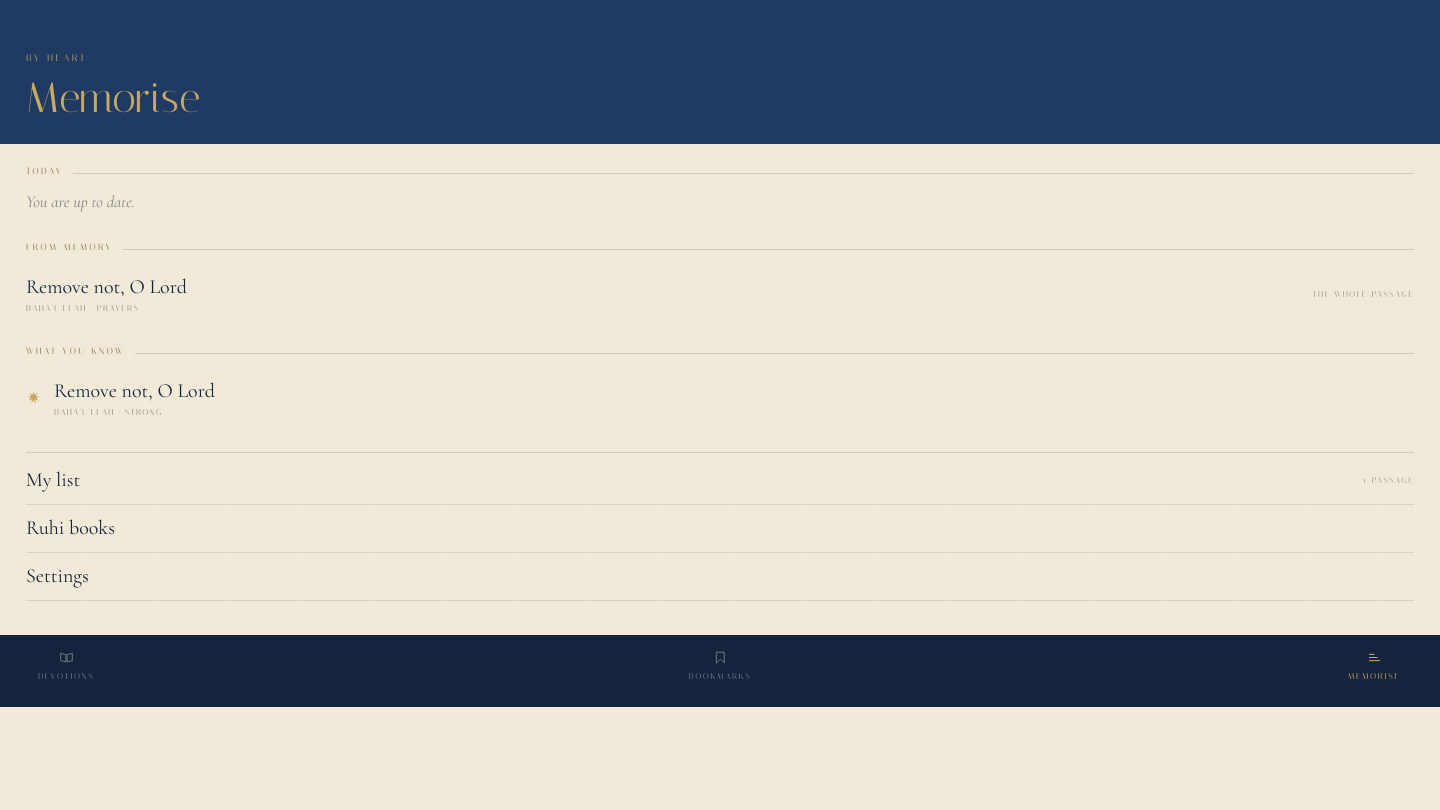
Scenario: the milestone screen › shows the opening words and hides everything else
expect the heading "Memorise" is shown: met, box [26,73,201,123]
Click the link "Remove not, O Lord BAHÁ'U'LLÁH · PRAYERS THE WHOLE PASSAGE": (106, 287) [26,264,1414,324]
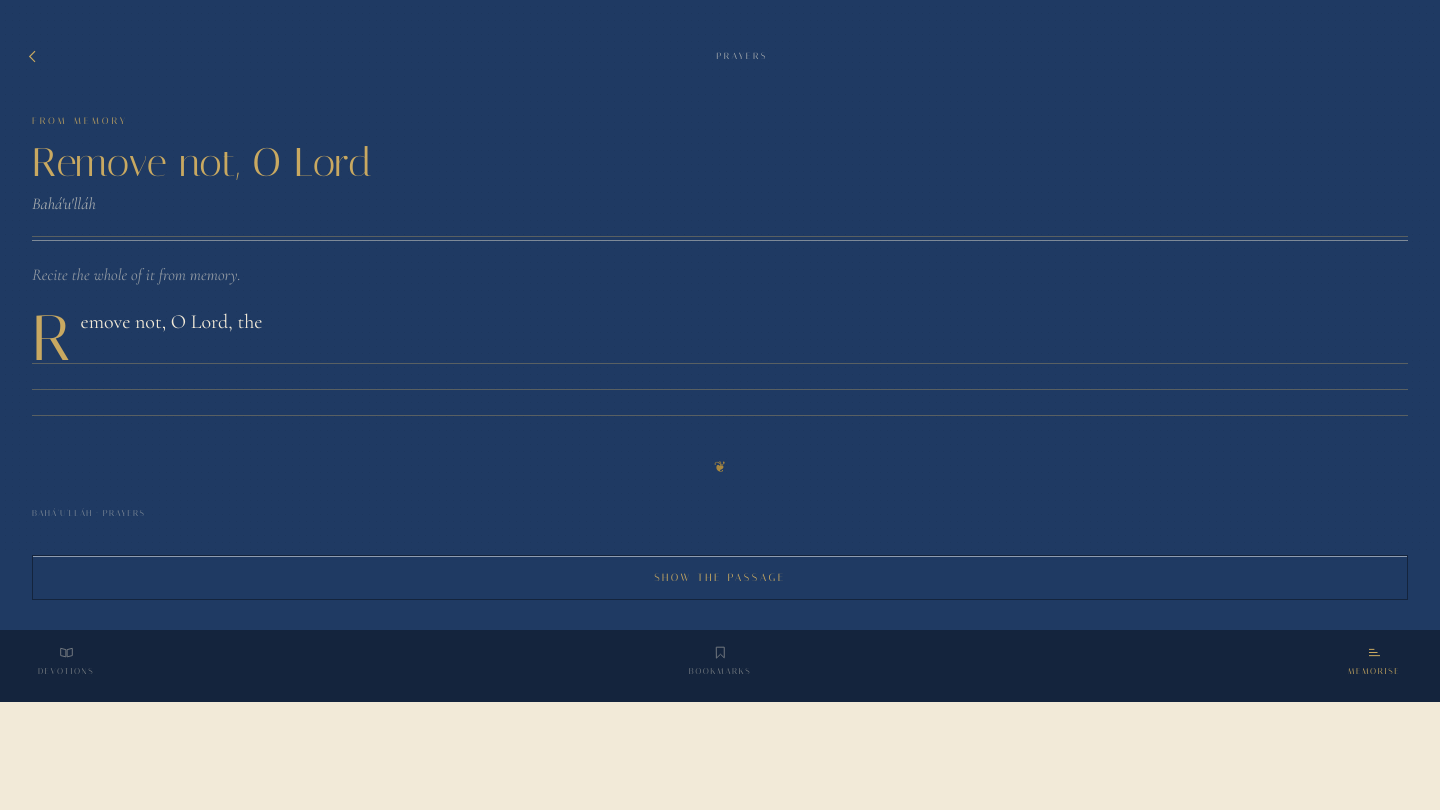
expect the text "Recite the whole of it from memory." is shown: met, box [32,265,241,285]
expect the element named "The lines to recite" reads "R emove not, O Lord, the": met, box [32,301,338,437]
